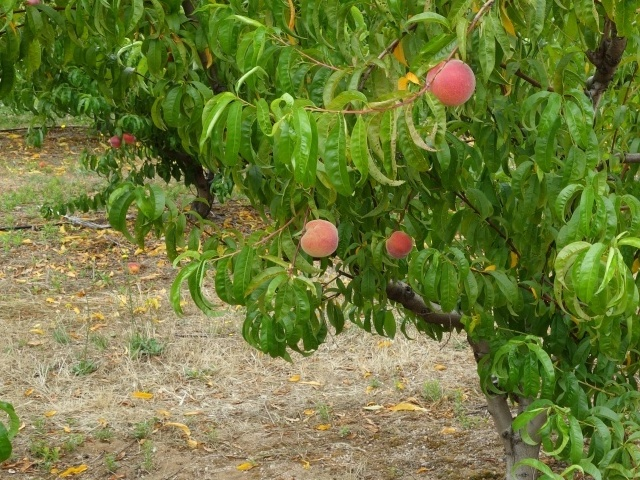peach: (421, 56, 480, 109), (297, 217, 342, 263), (380, 228, 415, 264)
